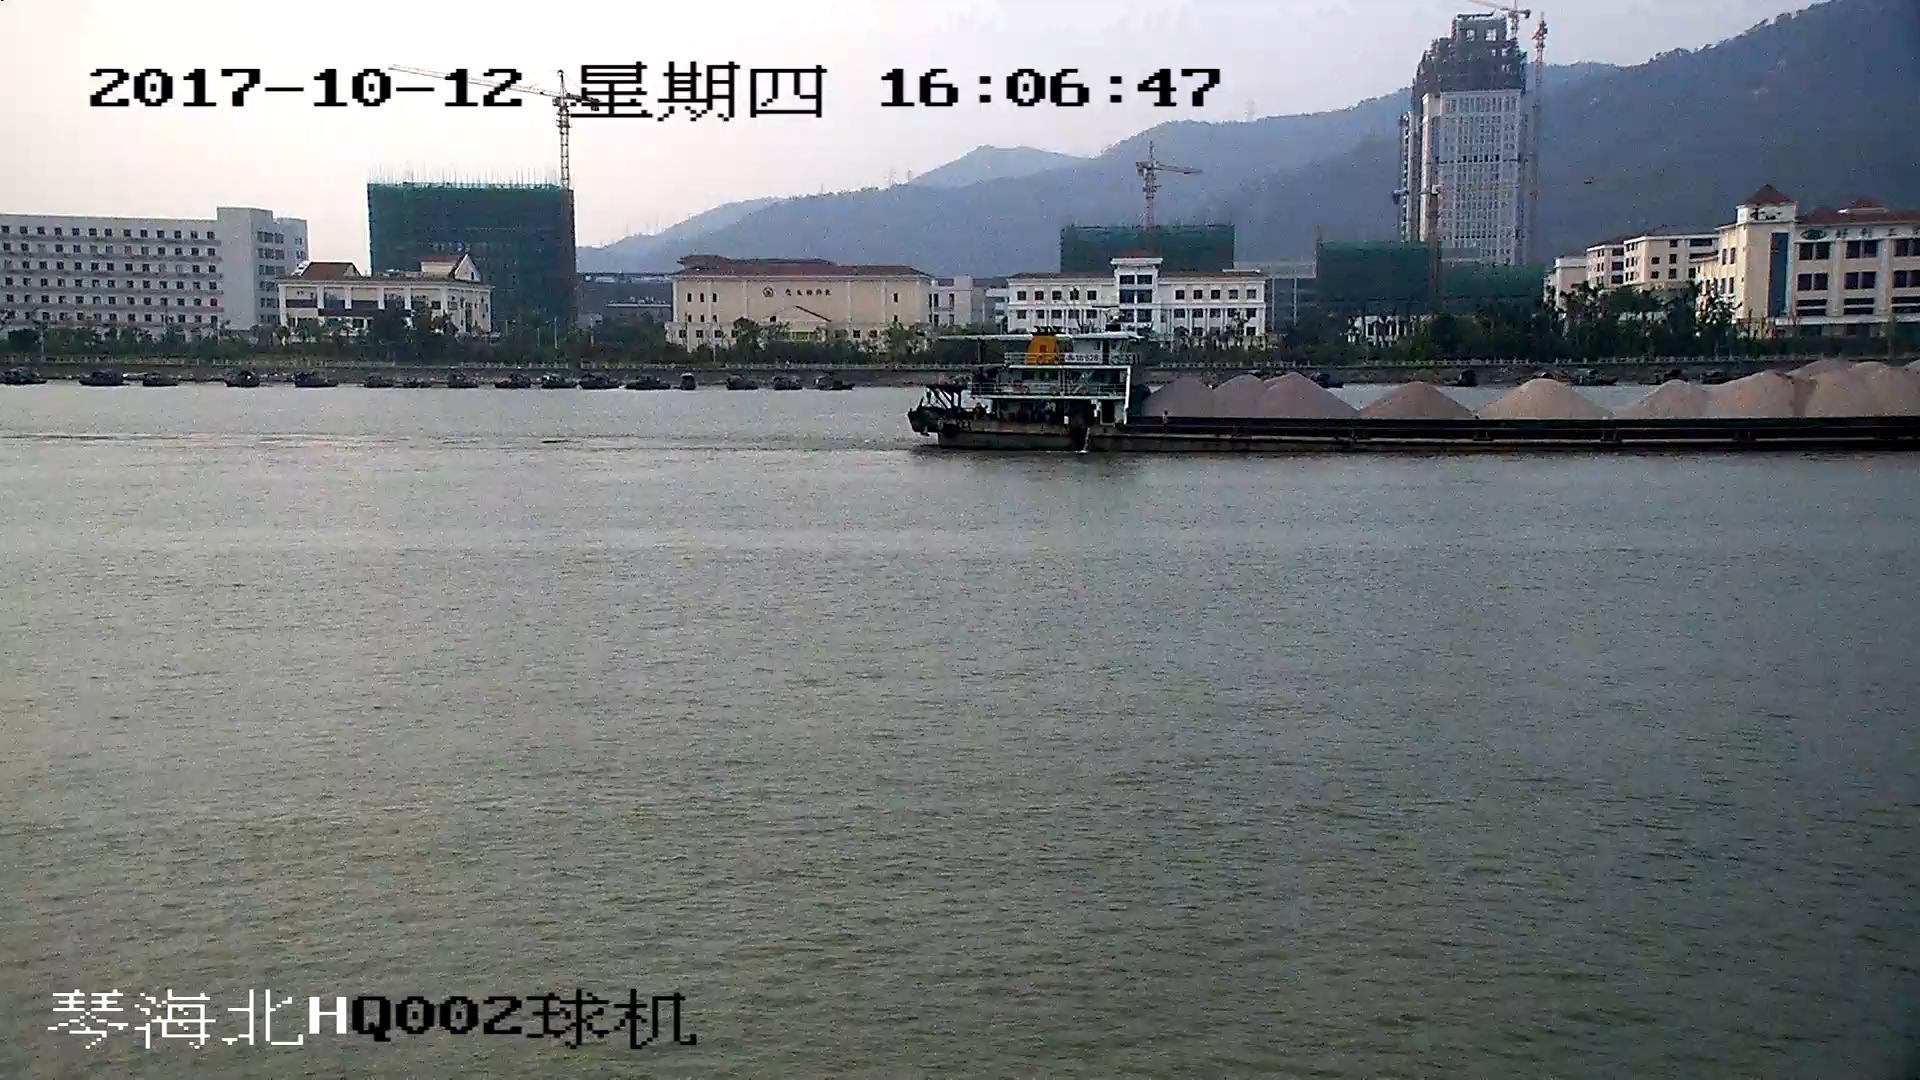ore carrier: (911, 331, 1920, 456)
